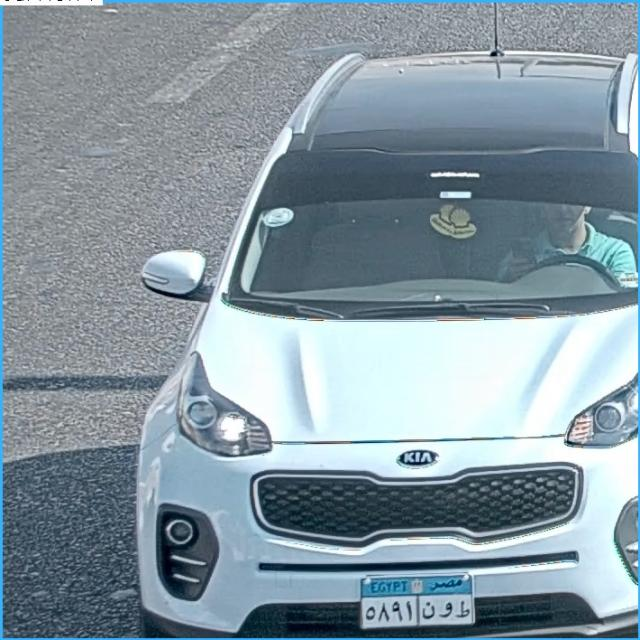windshield: (232, 153, 634, 304)
